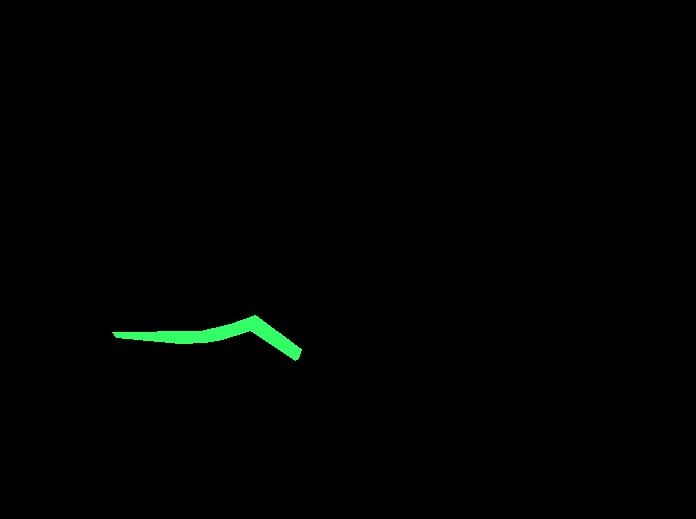Broken part: (112, 315, 301, 360)
